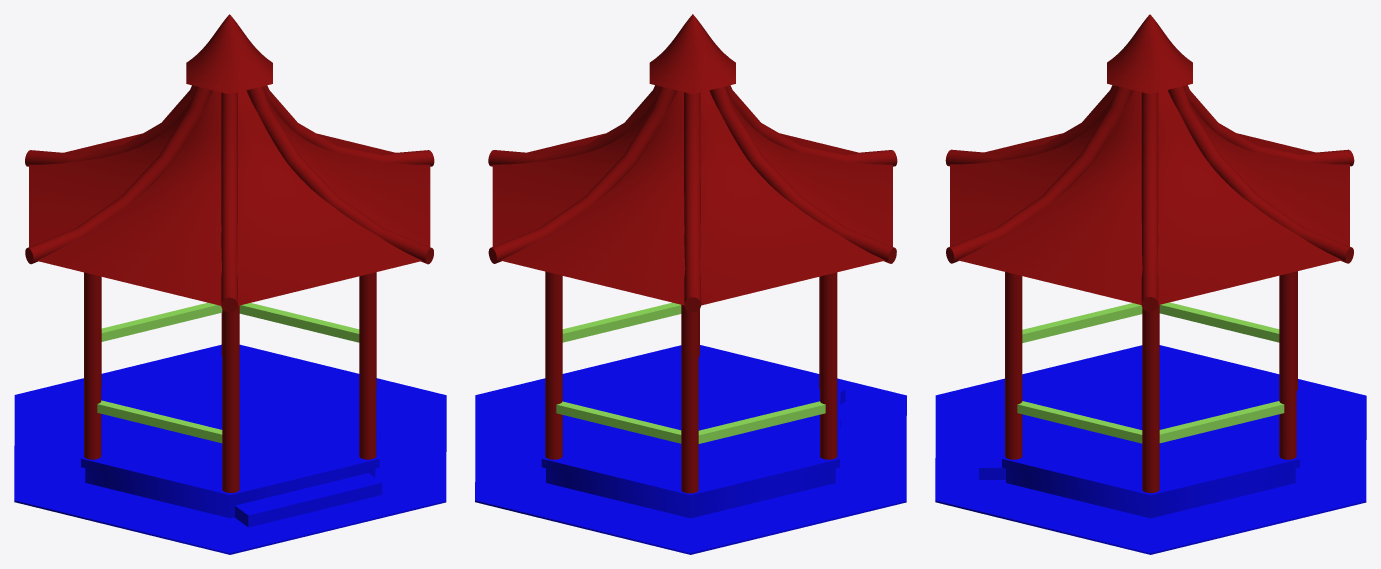
The model's file is pavillion.DAE.
3 renders of one model, left to right at view 1: azimuth 30°, elevation 25°; view 2: azimuth 150°, elevation 25°; view 3: azimuth 270°, elevation 25°, orthographic.
Parts seen in each view (by area): view 1: Kegel001, Tube002, Tube003, Kegel002, Zylinder011, Quader001, Zylinder008, Zylinder010, Zylinder003, Zylinder002, Zylinder001, Tube001 (+5 smaller); view 2: Kegel001, Tube003, Tube002, Tube001, Kegel002, Zylinder012, Zylinder007, Zylinder010, Zylinder006, Zylinder002, Zylinder005, Zylinder009 (+4 smaller); view 3: Kegel001, Tube003, Tube002, Tube001, Kegel002, Zylinder009, Zylinder008, Zylinder007, Zylinder005, Zylinder004, Zylinder003, Zylinder012 (+6 smaller).
Part boxes in pixels (box(x1,y1,x2,y2)): Kegel001: box(29, 90, 430, 305); Tube002: box(81, 351, 379, 503); Tube003: box(14, 344, 446, 554); Kegel002: box(186, 14, 272, 94); Zylinder011: box(221, 92, 237, 312); Quader001: box(235, 473, 382, 527); Zylinder008: box(246, 86, 433, 264); Zylinder010: box(25, 86, 212, 264); Zylinder003: box(359, 272, 376, 459); Zylinder002: box(84, 272, 101, 459); Zylinder001: box(222, 305, 239, 492); Tube001: box(85, 468, 375, 518); Kegel001: box(492, 90, 892, 305); Tube003: box(475, 345, 906, 554); Tube002: box(541, 352, 840, 503); Tube001: box(546, 468, 835, 518); Kegel002: box(649, 14, 735, 94); Zylinder012: box(684, 92, 701, 312); Zylinder007: box(488, 86, 676, 263); Zylinder010: box(709, 86, 896, 263); Zylinder006: box(681, 305, 698, 493); Zylinder002: box(820, 272, 837, 459); Zylinder005: box(545, 271, 562, 459); Zylinder009: box(488, 85, 660, 166); Kegel001: box(950, 90, 1349, 304); Tube003: box(935, 345, 1366, 554); Tube002: box(1002, 352, 1299, 503); Tube001: box(1006, 468, 1295, 518); Kegel002: box(1107, 14, 1192, 93); Zylinder009: box(1141, 92, 1158, 311); Zylinder008: box(946, 86, 1133, 263); Zylinder007: box(1167, 86, 1353, 263); Zylinder005: box(1279, 271, 1296, 459); Zylinder004: box(1142, 305, 1159, 492); Zylinder003: box(1005, 272, 1022, 459); Zylinder012: box(1183, 85, 1354, 166).
Size of the model in its own units: 129 by 112 by 125.
